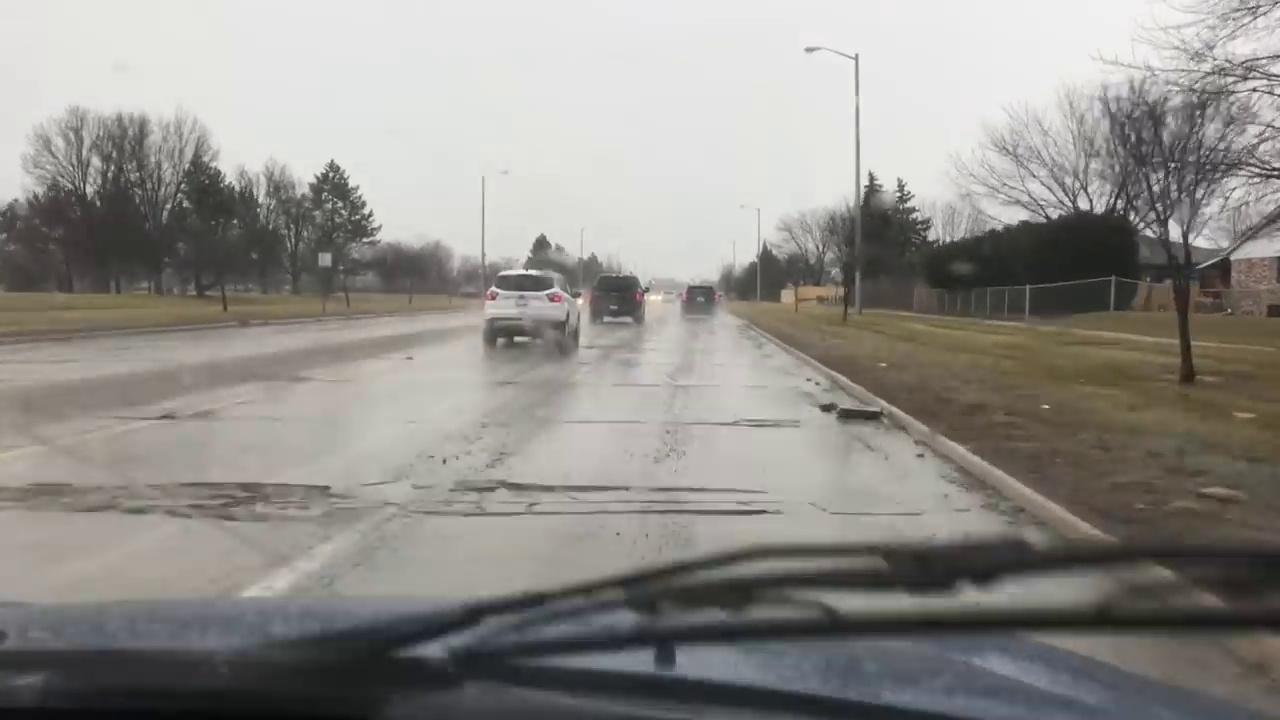pothole: (457, 479, 759, 493), (703, 417, 800, 427), (142, 412, 177, 419)
